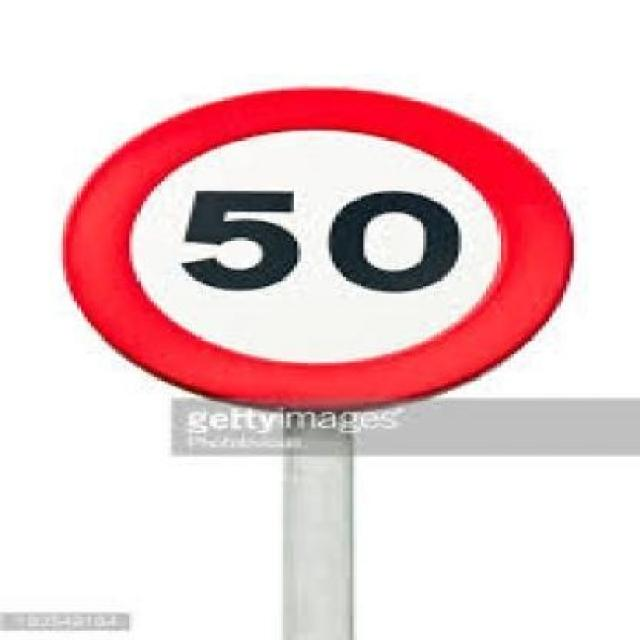forb_speed_over_50: (67, 87, 571, 405)
